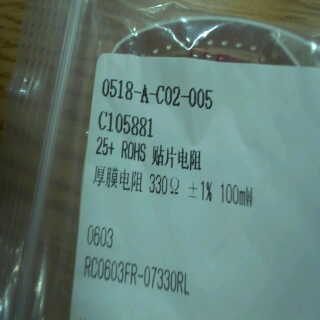330R: (148, 170, 182, 200)
